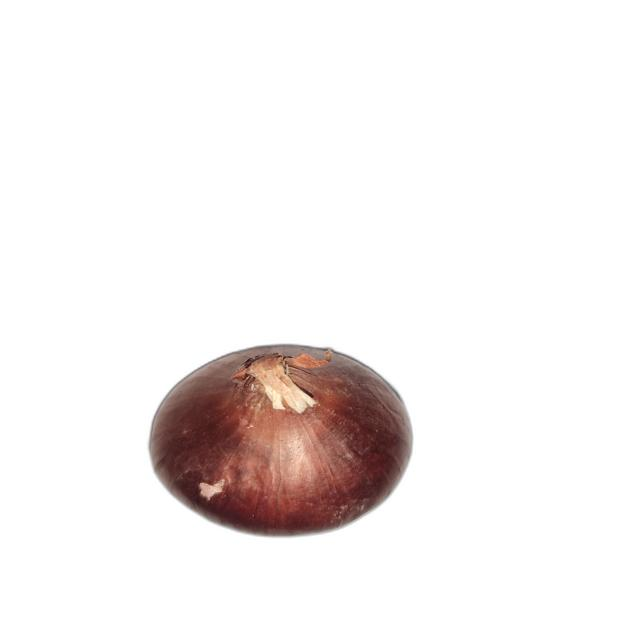onion: (148, 343, 414, 538)
